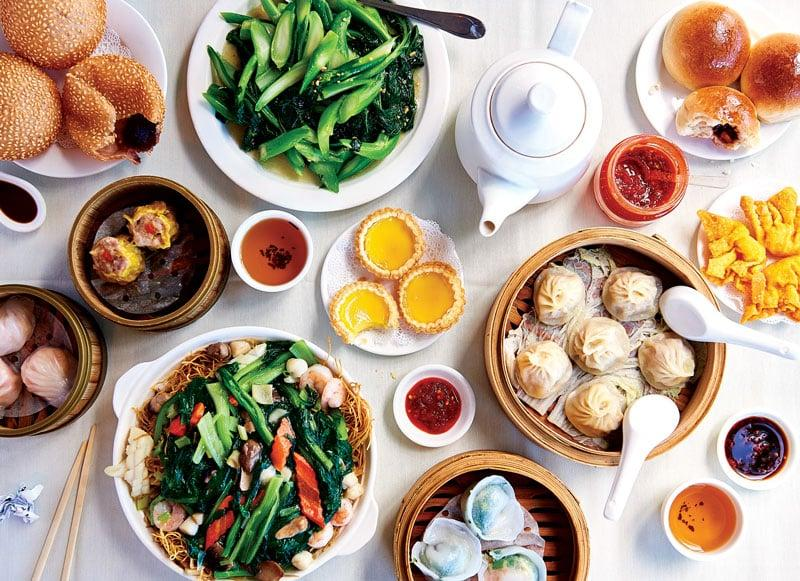Braised Crucian Carp: (109, 326, 378, 576), (482, 227, 725, 462), (183, 0, 442, 215), (1, 0, 169, 180), (632, 0, 794, 162), (393, 448, 583, 579), (68, 176, 225, 329), (320, 210, 458, 354), (0, 286, 107, 435)
